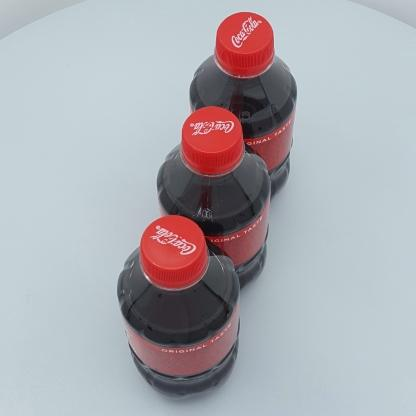--------300ML: (117, 215, 240, 400)
